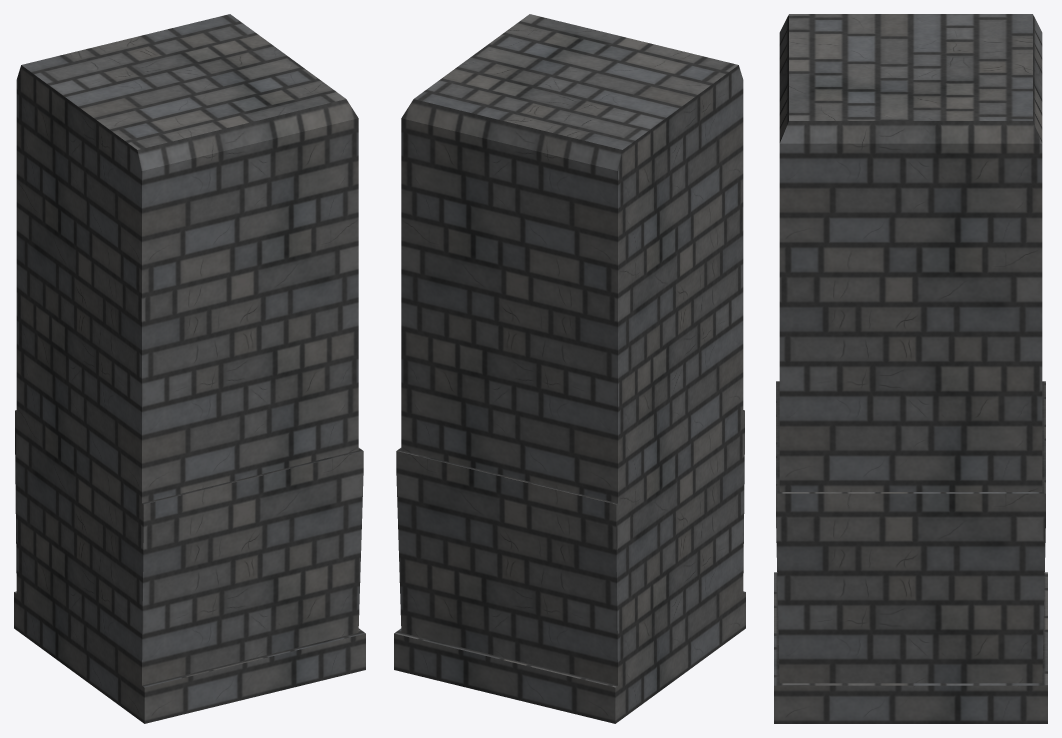
Rendered from kit_wall_pier.glb.
The picture shows the model from 3 angles, left to right: view 1: azimuth 30°, elevation 25°; view 2: azimuth 150°, elevation 25°; view 3: azimuth 270°, elevation 25°; orthographic projection. The views are drawn at different scales.
Parts seen in each view (by area): view 1: kit_wall_pier; view 2: kit_wall_pier; view 3: kit_wall_pier.
Part boxes in pixels (x1,y1,x2,y2): kit_wall_pier: (14,14,365,723); kit_wall_pier: (394,14,745,723); kit_wall_pier: (774,14,1047,723).
Bounding box in the file's own units: 2.86 × 7.02 × 2.92.
Materials: 1 (1 with a texture image).
